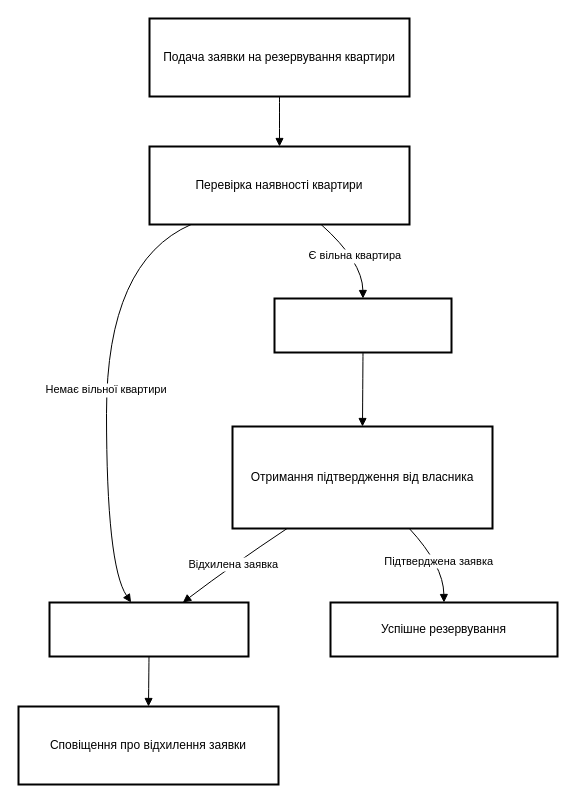
The diagram is 575 pixels wide and 802 high, and some of its shapes have lost their labels. The centre of each missing label's shape, as x and y in pixels:
Відхилення заявки: the point at 148,629
Обробка заявки: the point at 362,325
